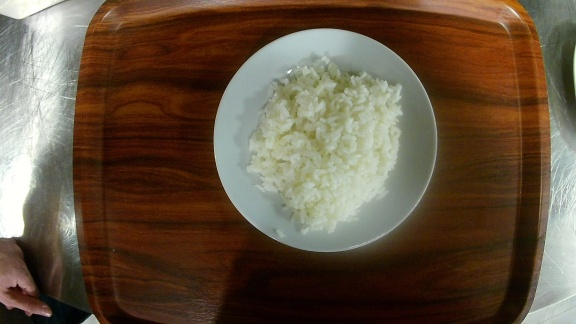pilav: (213, 28, 439, 251)
